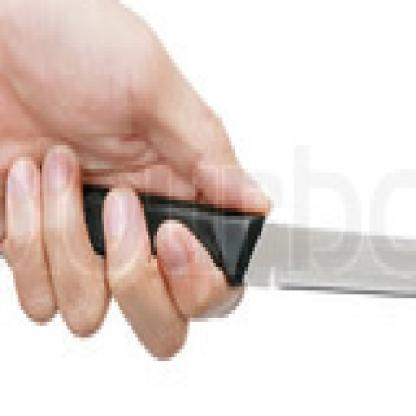knife: (93, 173, 414, 365)
